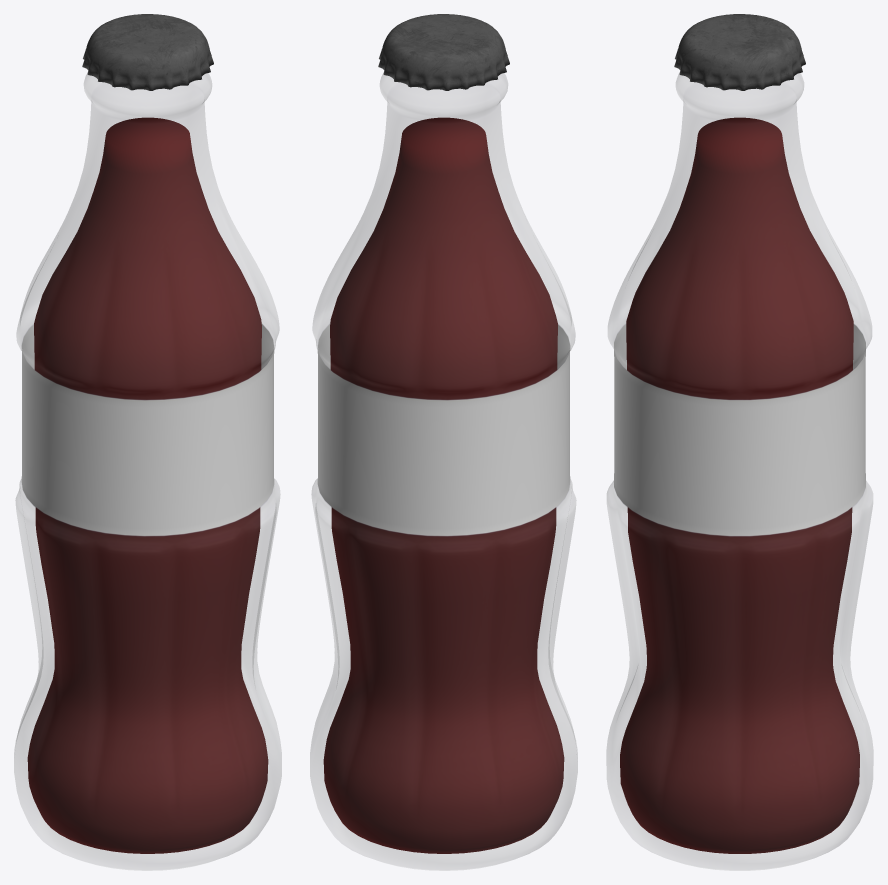
3 views of the same model, side by side, from view 1: azimuth 30°, elevation 25°; view 2: azimuth 150°, elevation 25°; view 3: azimuth 270°, elevation 25° (orthographic).
Parts seen in each view (by area): view 1: Object_2, Object_3; view 2: Object_2, Object_3; view 3: Object_2, Object_3.
Boxes of the visible parts, bbox=[...] form: Object_2: bbox=[14, 14, 281, 870]; Object_3: bbox=[27, 117, 268, 853]; Object_2: bbox=[310, 14, 577, 870]; Object_3: bbox=[323, 117, 564, 853]; Object_2: bbox=[606, 14, 873, 870]; Object_3: bbox=[620, 117, 859, 853].
Size of the model in its own units: 2.79 by 9.07 by 2.77.
2 materials, 1 textured.
